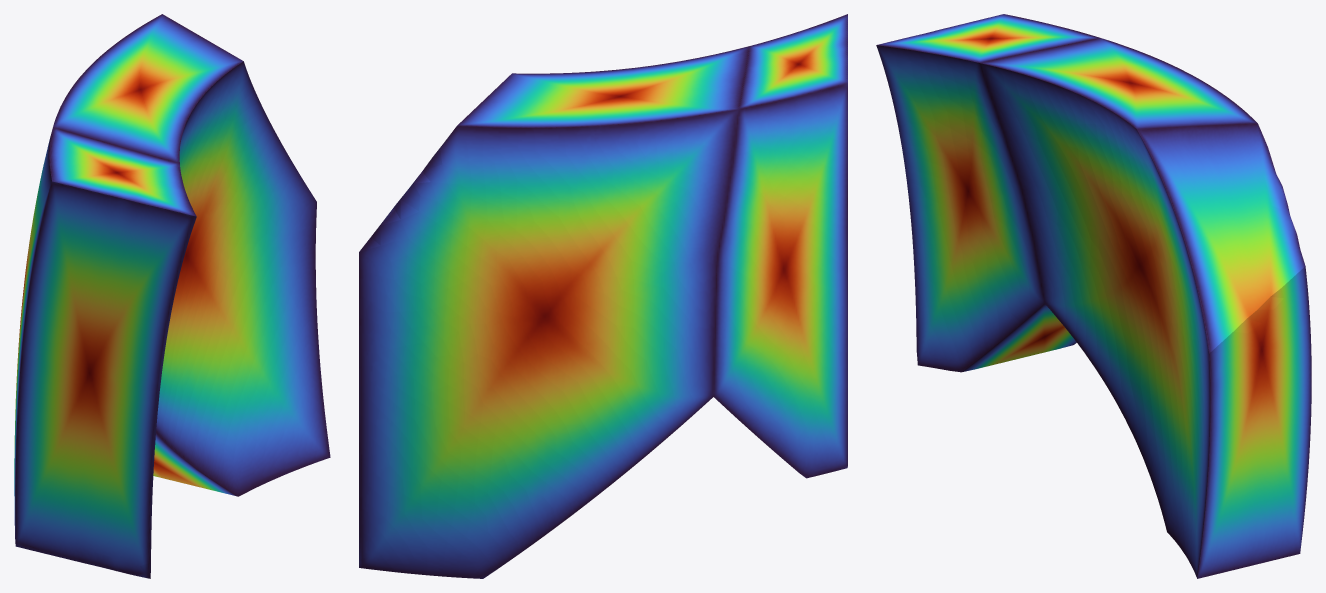
The model's file is gen0.glb.
3 renders of one model, left to right at view 1: azimuth 30°, elevation 25°; view 2: azimuth 150°, elevation 25°; view 3: azimuth 270°, elevation 25°, orthographic. The views are drawn at different scales.
Visible parts, largest first — view 1: Node; view 2: Node; view 3: Node.
Boxes of the visible parts, bbox=[...] form: Node: bbox=[14, 14, 330, 578]; Node: bbox=[359, 14, 847, 578]; Node: bbox=[876, 14, 1311, 578].
Size of the model in its own units: 70.72 by 75 by 74.39.
Materials: 1 (1 with a texture image).
